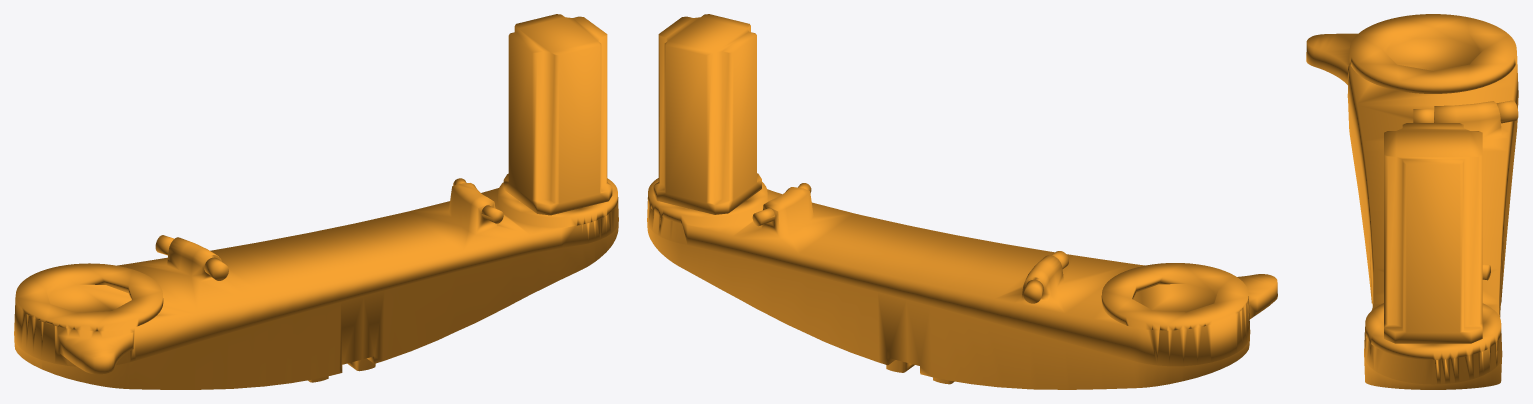
The model's file is KukaKR5ArcLink2.dae.
The picture shows the model from 3 angles, left to right: view 1: azimuth 30°, elevation 25°; view 2: azimuth 150°, elevation 25°; view 3: azimuth 270°, elevation 25°; orthographic projection. The views are drawn at different scales.
Parts seen in each view (by area): view 1: link2; view 2: link2; view 3: link2.
Boxes of the visible parts, left/top/right/bottom form: link2: left=14, top=14, right=618, bottom=389; link2: left=647, top=14, right=1277, bottom=389; link2: left=1306, top=14, right=1518, bottom=389.
Size of the model in its own units: 0.7509 by 0.2075 by 0.3373.
